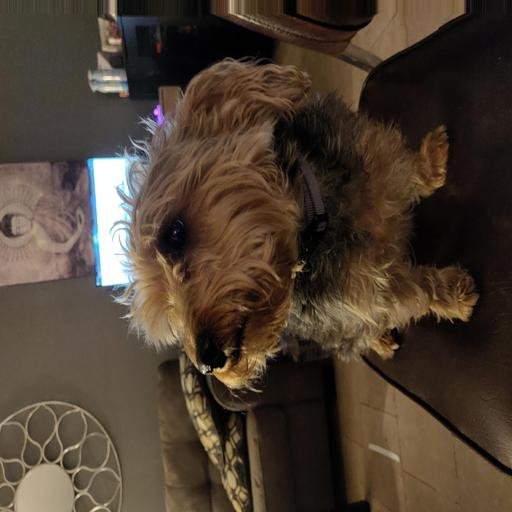dog: (111, 67, 409, 365)
